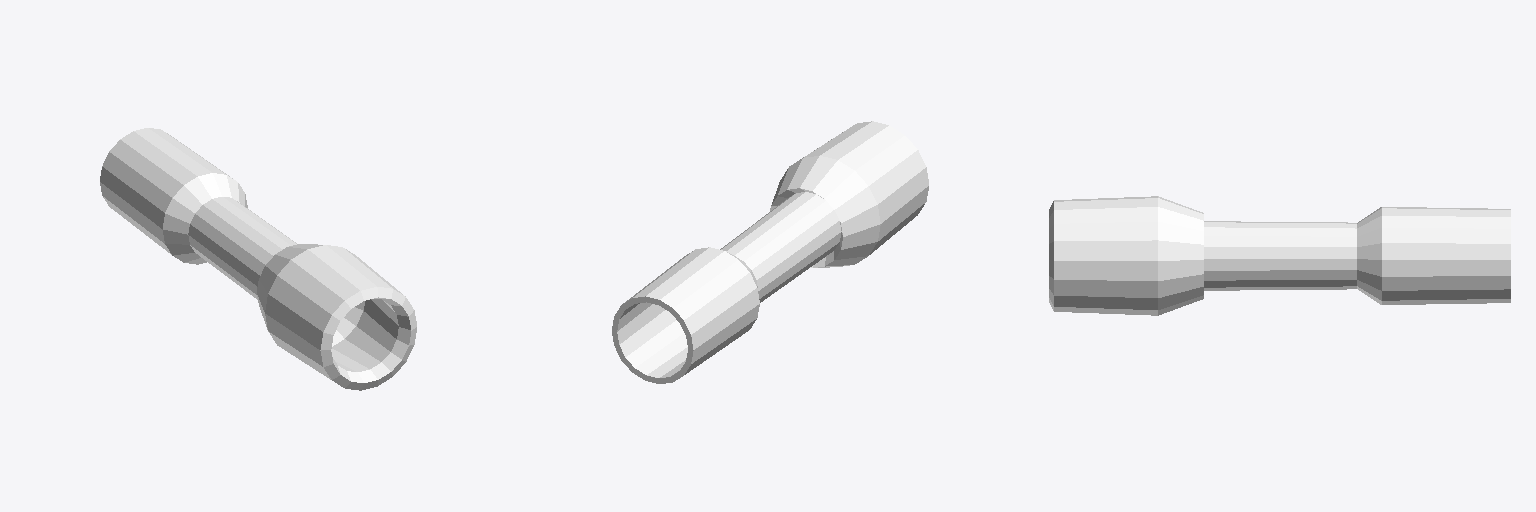
Rendered from Rocket.obj.
3 views of the same model, side by side, from view 1: azimuth 30°, elevation 25°; view 2: azimuth 150°, elevation 25°; view 3: azimuth 270°, elevation 25° (orthographic).
Size of the model in its own units: 111 by 109 by 426.